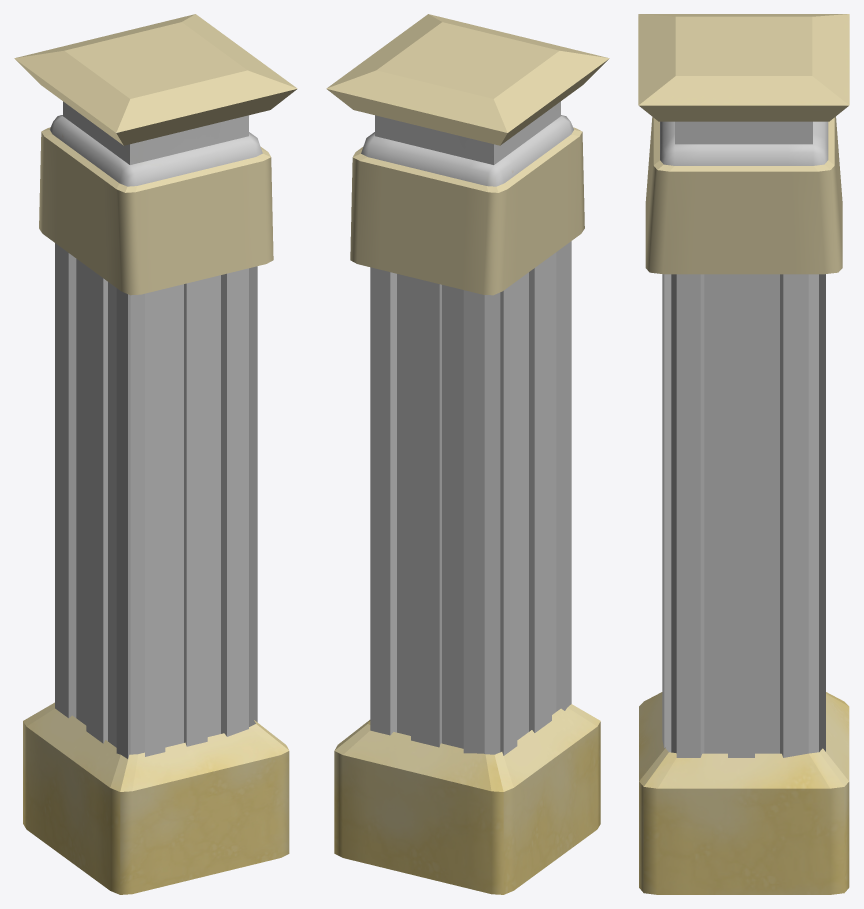
The model's file is pillar fbx.fbx.
The picture shows the model from 3 angles, left to right: view 1: azimuth 30°, elevation 25°; view 2: azimuth 150°, elevation 25°; view 3: azimuth 270°, elevation 25°; orthographic projection. The views are drawn at different scales.
Parts seen in each view (by area): view 1: polySurface4, polySurface3, polySurface6, polySurface8, polySurface7; view 2: polySurface4, polySurface3, polySurface6, polySurface8, polySurface7; view 3: polySurface4, polySurface3, polySurface8, polySurface6, polySurface7.
Part boxes in pixels (box(x1,y1,x2,y2)): polySurface4: box(55, 243, 257, 758); polySurface3: box(23, 702, 289, 894); polySurface6: box(39, 127, 273, 295); polySurface8: box(14, 14, 297, 145); polySurface7: box(49, 101, 262, 186); polySurface4: box(370, 241, 571, 755); polySurface3: box(334, 704, 600, 894); polySurface6: box(350, 127, 584, 295); polySurface8: box(326, 14, 609, 145); polySurface7: box(361, 101, 573, 186); polySurface4: box(662, 274, 825, 757); polySurface3: box(639, 692, 849, 894); polySurface8: box(638, 14, 849, 121); polySurface6: box(645, 116, 842, 274); polySurface7: box(660, 121, 828, 165).
Bounding box in the file's own units: 4.9 × 20.06 × 4.77.
1 material, 1 textured.
